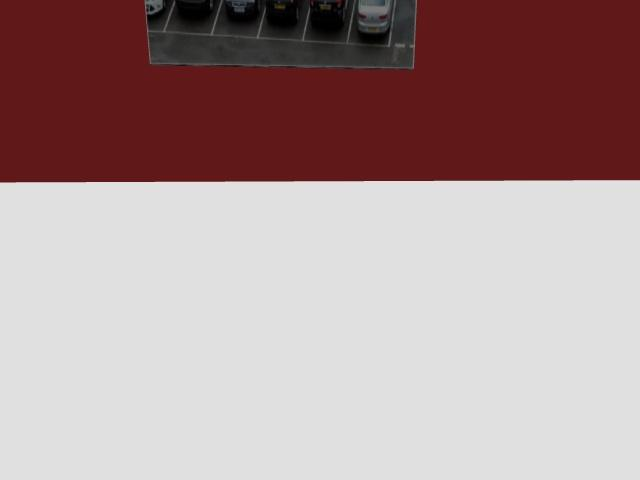vehicle: (358, 0, 392, 35), (310, 0, 348, 25), (266, 0, 300, 21), (223, 0, 261, 17), (175, 0, 214, 15), (145, 0, 165, 15)
